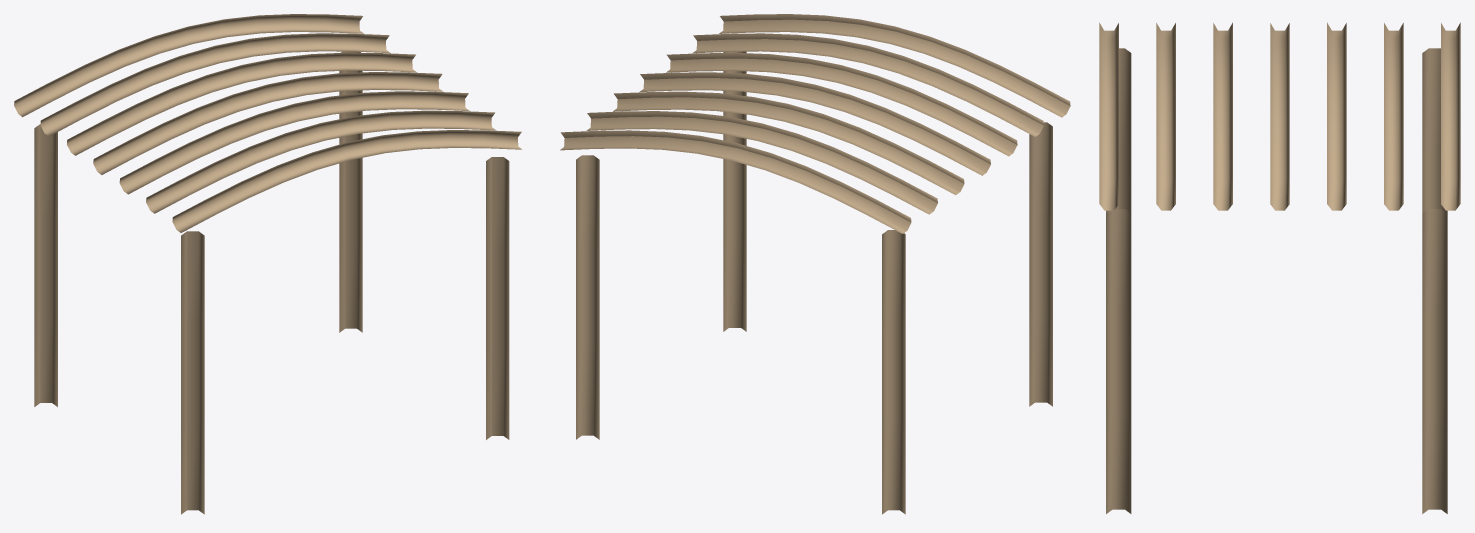
File: personal-signature.gltf
3 views of the same model, side by side, from view 1: azimuth 30°, elevation 25°; view 2: azimuth 150°, elevation 25°; view 3: azimuth 270°, elevation 25° (orthographic). The views are drawn at different scales.
Parts seen in each view (by area): view 1: personal-signature; view 2: personal-signature; view 3: personal-signature.
Part boxes in pixels (left/top/right/bottom): personal-signature: left=14, top=14, right=521, bottom=514; personal-signature: left=560, top=14, right=1070, bottom=514; personal-signature: left=1099, top=22, right=1460, bottom=513.
Bounding box in the file's own units: 1.37 × 1.27 × 1.14.
